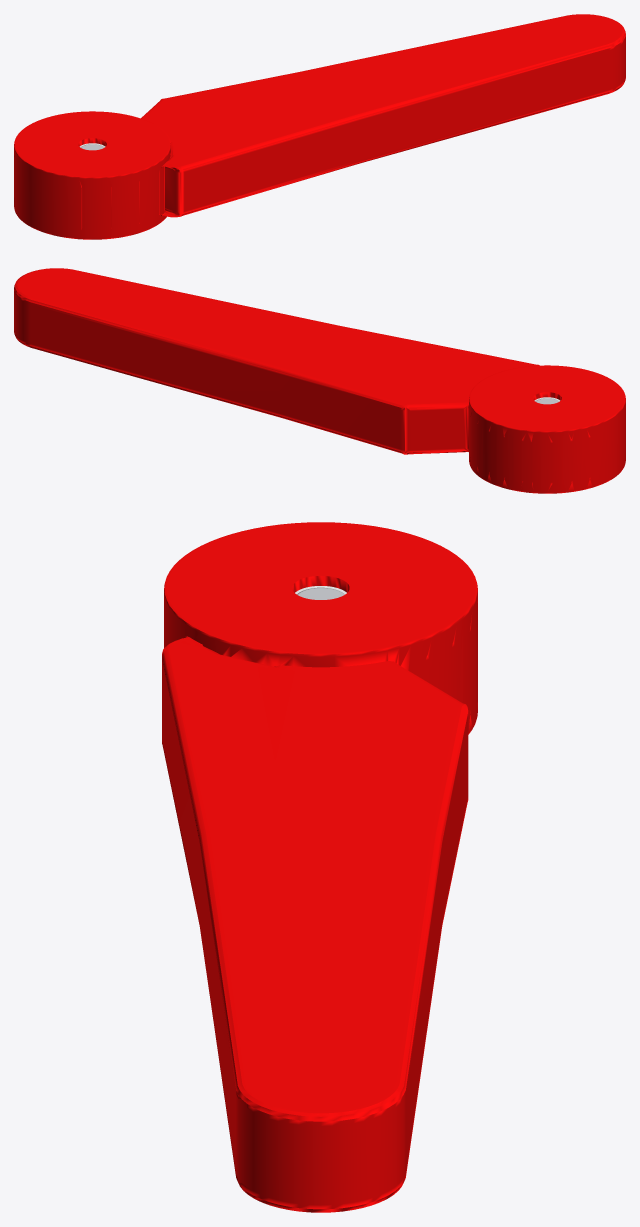
The model's file is PaletteFlipper.glb.
3 renders of one model, top to bottom at view 1: azimuth 30°, elevation 25°; view 2: azimuth 150°, elevation 25°; view 3: azimuth 270°, elevation 25°, orthographic. The views are drawn at different scales.
Parts seen in each view (by area): view 1: PinballFlipper; view 2: PinballFlipper; view 3: PinballFlipper.
Part boxes in pixels (x1=…): PinballFlipper: x1=14, y1=14, x2=625, y2=239; PinballFlipper: x1=14, y1=268, x2=625, y2=493; PinballFlipper: x1=162, y1=522, x2=477, y2=1212.
Size of the model in its own units: 1.45 by 0.162 by 0.3321.
Materials: 4 (1 with a texture image).
